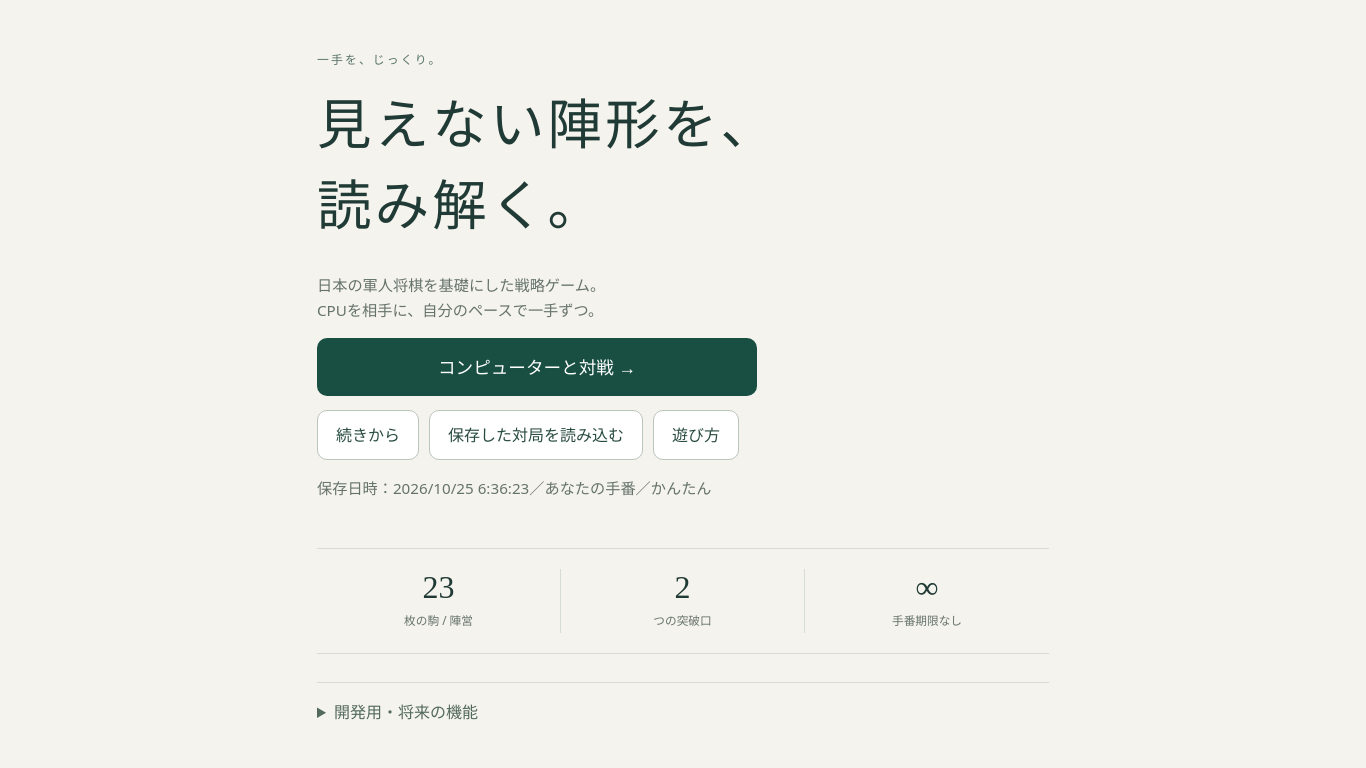
Test: home dialogue receives focus and Escape cancels replacement
(page scrolled)
Click the button "コンピューターと対戦 →": (537, 367) [317,338,757,396]
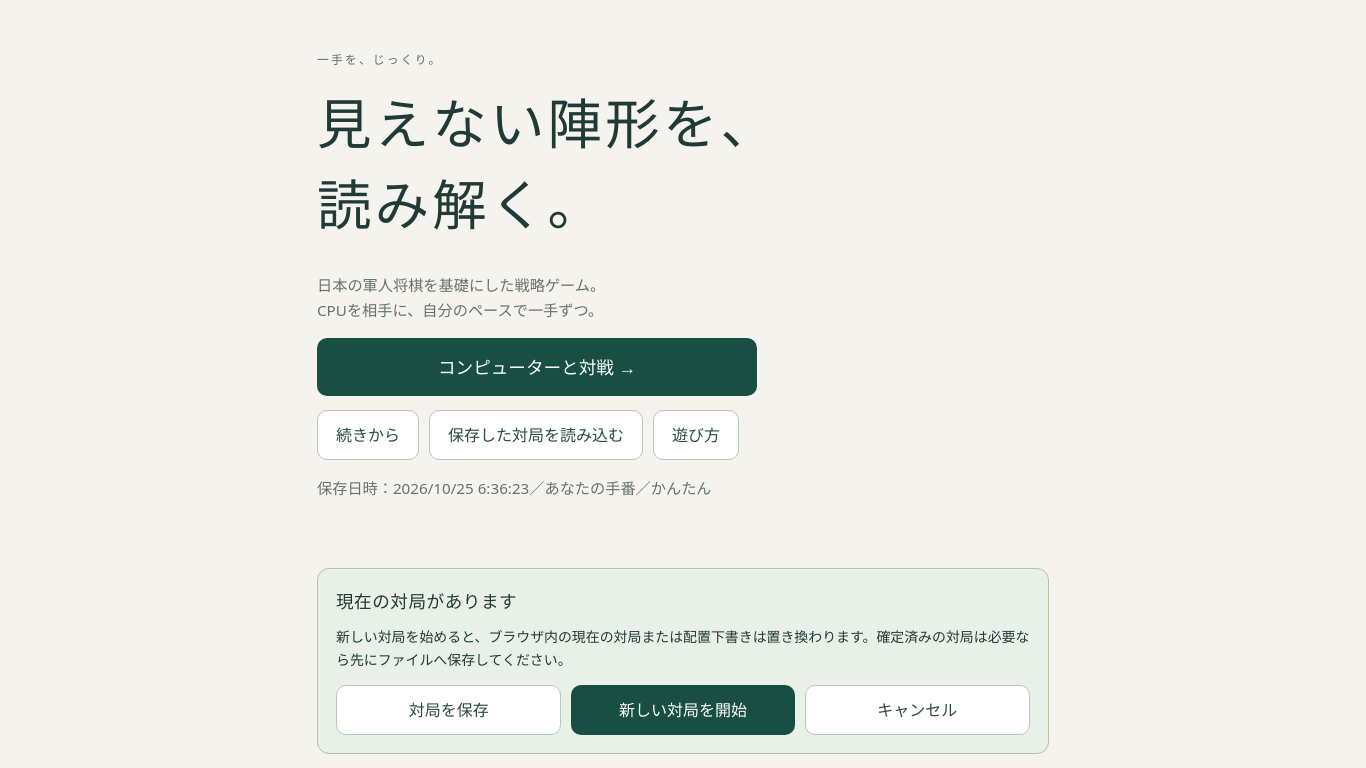
Press Escape
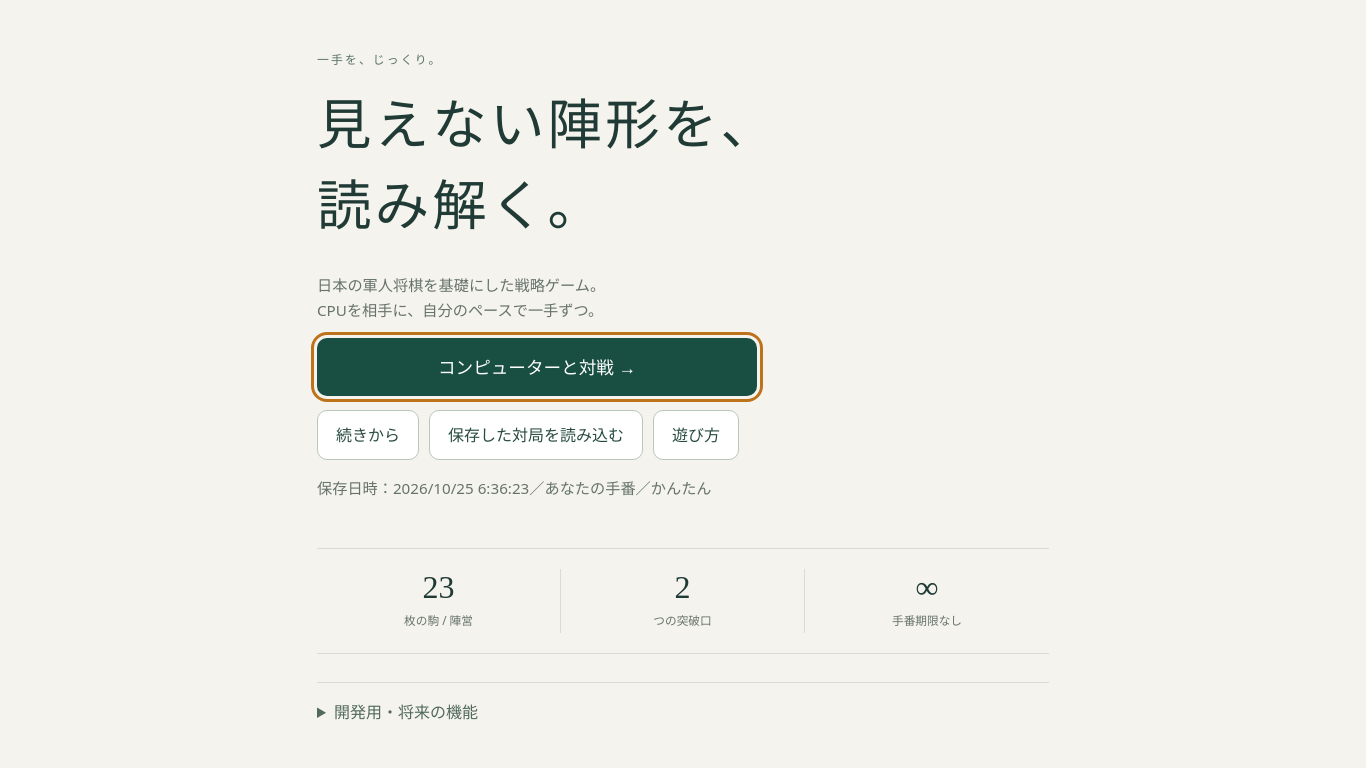
Expected: the button "続きから" is enabled, [317,410,419,460]
Expected: the dialog is gone
